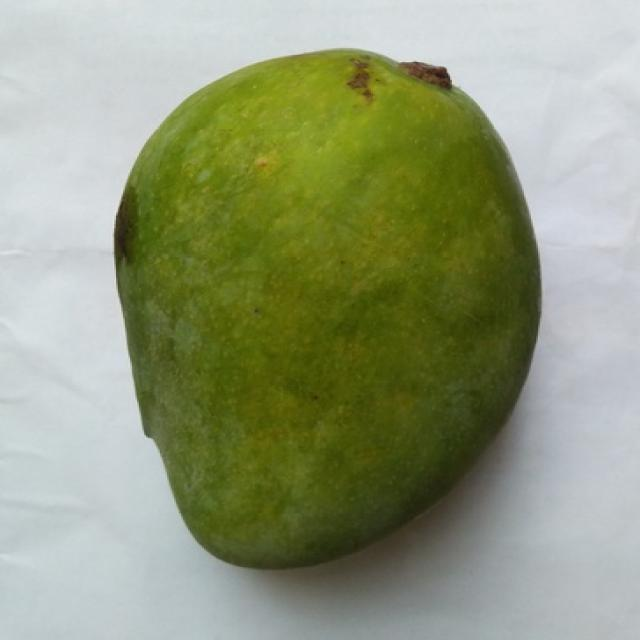Mango: (116, 50, 538, 566)
